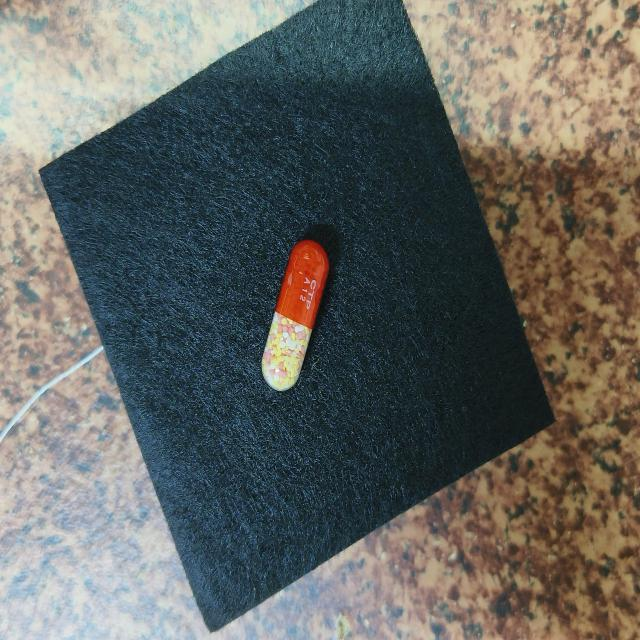Intact Capsule: (262, 239, 329, 391)
